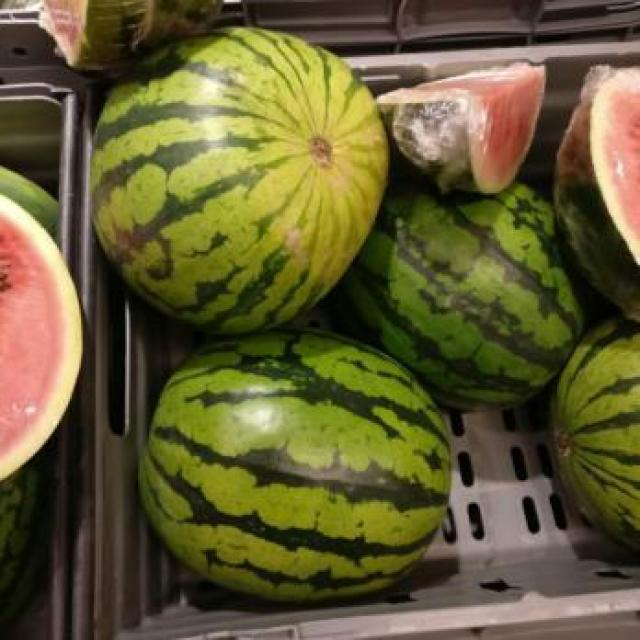Watermelon: (88, 28, 390, 331), (140, 329, 454, 600), (371, 177, 585, 416), (379, 53, 546, 197)
